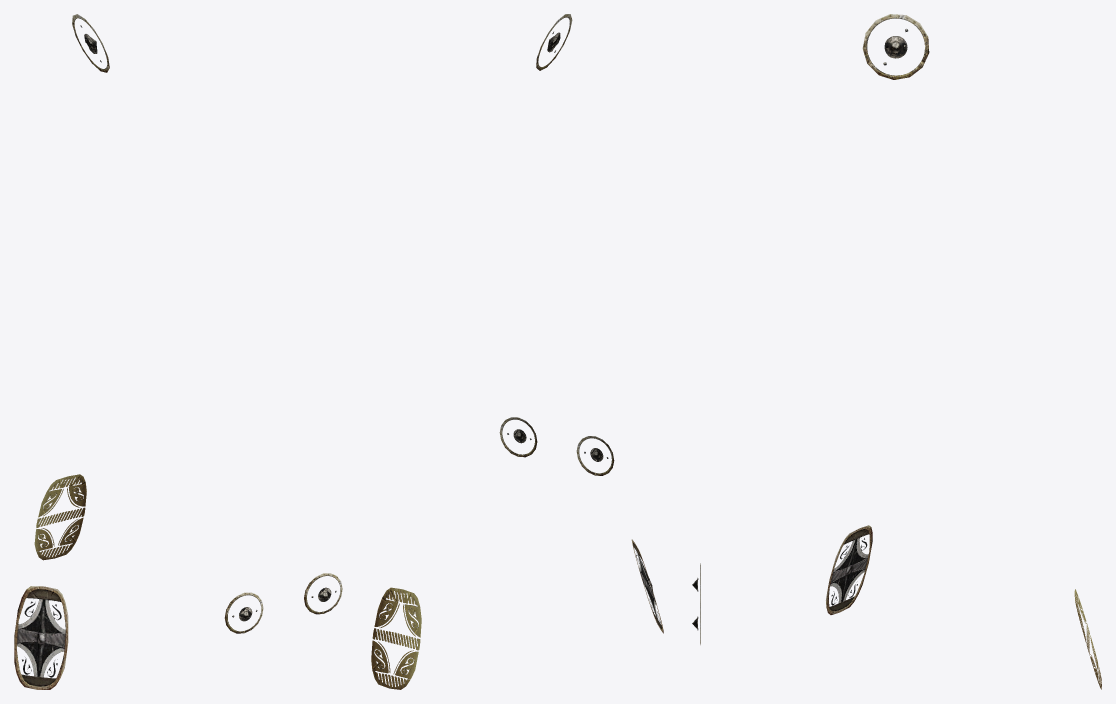
Rendered from iber_scout_tower_b.dae.
The picture shows the model from 3 angles, left to right: view 1: azimuth 30°, elevation 25°; view 2: azimuth 150°, elevation 25°; view 3: azimuth 270°, elevation 25°; orthographic projection. The views are drawn at different scales.
Parts seen in each view (by area): view 1: towershield05; view 2: towershield05; view 3: towershield05.
Boxes of the visible parts, x1,y1,x2,y2 form: towershield05: [14, 14, 342, 689]; towershield05: [371, 14, 663, 689]; towershield05: [692, 14, 1101, 689].
Bounding box in the file's own units: 7.24 × 17.79 × 10.41.
